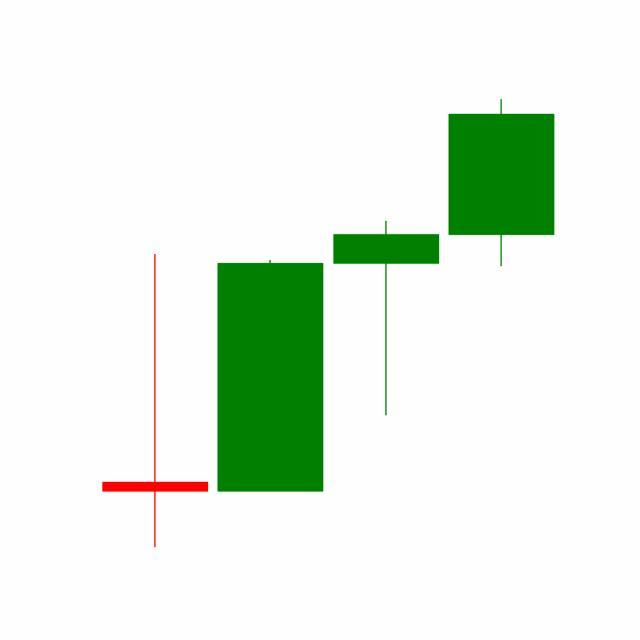Dragonfly Doji: (329, 219, 445, 419)
